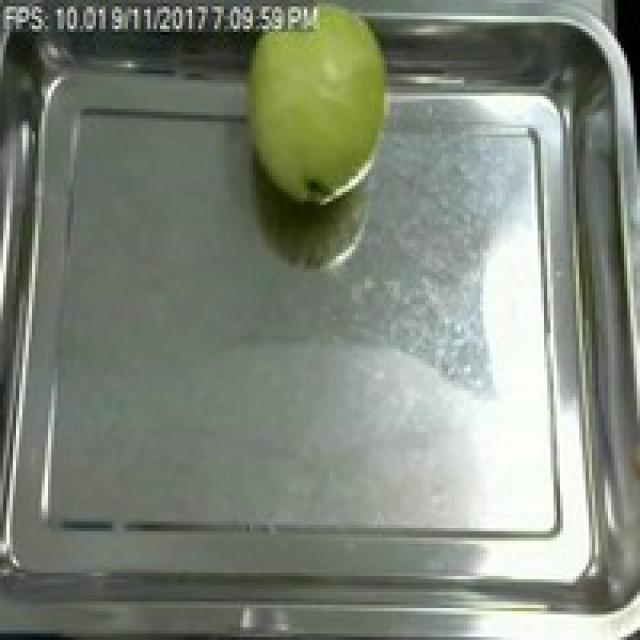Fruit: (227, 0, 403, 218)
